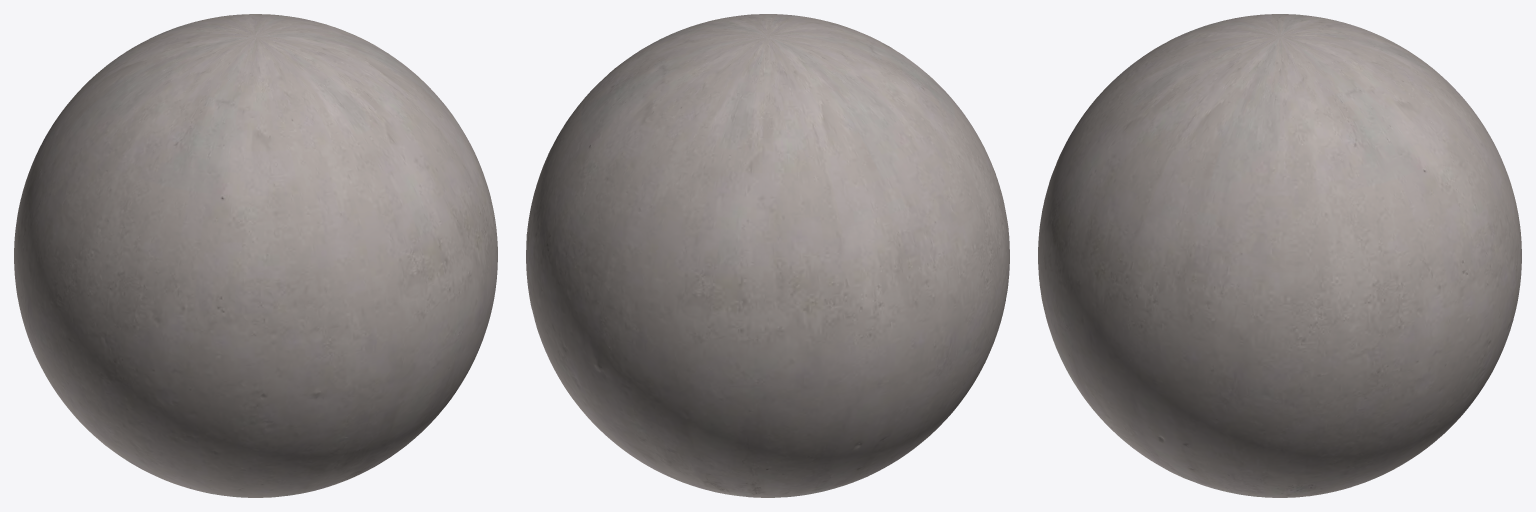
Rendered from painted_plaster_wall.glb.
3 views of the same model, side by side, from view 1: azimuth 30°, elevation 25°; view 2: azimuth 150°, elevation 25°; view 3: azimuth 270°, elevation 25° (orthographic).
Visible parts, largest first — view 1: sphere_gltf; view 2: sphere_gltf; view 3: sphere_gltf.
Part boxes in pixels (left/top/right/bottom): sphere_gltf: left=14, top=14, right=497, bottom=497; sphere_gltf: left=526, top=14, right=1009, bottom=497; sphere_gltf: left=1038, top=14, right=1521, bottom=497.
Size of the model in its own units: 2.01 by 2.01 by 2.01.
Materials: 1 (1 with a texture image).
